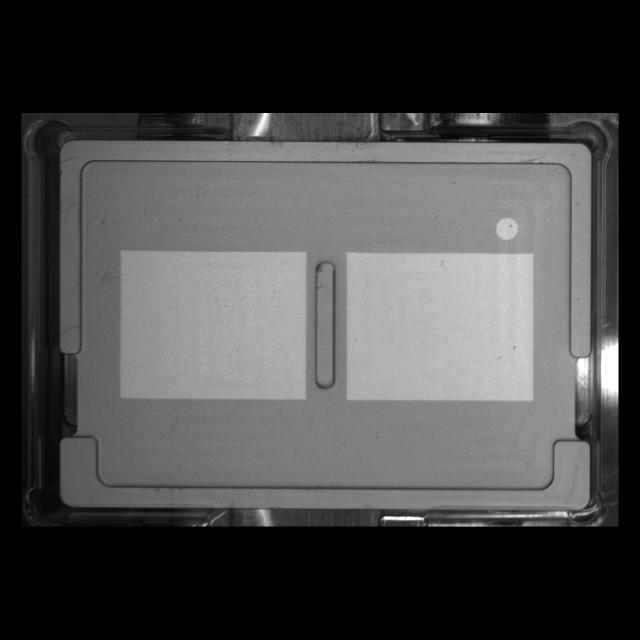door: (45, 423, 600, 522)
point: (491, 209, 525, 247)
